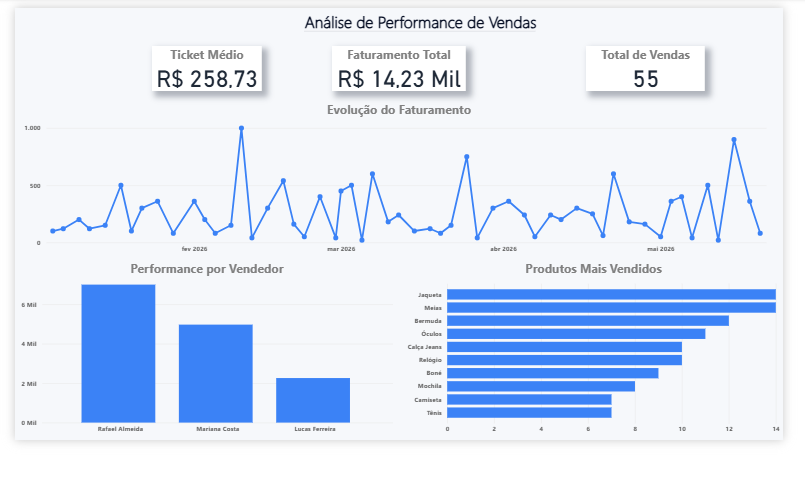

Layout of this report page (visuals, bound fields, positions):
{"tool":"powerbi","page":{"name":"Página 1","canvas":[1280,720],"ordinal":0},"visuals":[{"type":"card","title":"Faturamento Total","fields":{"Values":["Vendas.Faturamento Total"]},"box":[564.3,64.3,224.3,75.7],"z":0},{"type":"columnChart","title":"Performance por Vendedor","fields":{"Category":["Vendedores.nome_vendedor"],"Y":["Vendas.Faturamento Total"]},"box":[124.4,420,510.7,289.8],"z":1000},{"type":"barChart","title":"Produtos Mais Vendidos","fields":{"Y":["Sum(Vendas.quantidade)"],"Category":["Produtos.nome_produto"]},"box":[639.5,420,531.2,300],"z":2000},{"type":"lineChart","title":"Evolução do Faturamento","fields":{"Y":["Vendas.Faturamento Total"],"Category":["Datas.Date"]},"box":[4.3,154.3,1261.4,265.7],"z":3000},{"type":"card","title":"Ticket Médio","fields":{"Values":["Vendas.Ticket Medio"]},"box":[288.6,64.3,182.9,75.7],"z":4000},{"type":"card","title":"Total de Vendas","fields":{"Values":["Vendas.Total de Vendas"]},"box":[867.1,65.7,197.1,74.3],"z":5000},{"type":"textbox","box":[387.1,0,578.6,64.3],"z":7000},{"type":"shape","box":[481.4,11.4,385.7,54.3],"z":7001}]}

Visuals, with their boxes on the page's 1280x720 design canvas (x1, y1, x2, y2). These are canvas units, not pixel positions in the 805x480 screenshot, which may show the page scaled, cropped or inside an application window:
"Faturamento Total" card: 564,64,789,140
"Performance por Vendedor" columnChart: 124,420,635,710
"Produtos Mais Vendidos" barChart: 640,420,1171,720
"Evolução do Faturamento" lineChart: 4,154,1266,420
"Ticket Médio" card: 289,64,472,140
"Total de Vendas" card: 867,66,1064,140
textbox: 387,0,966,64
shape: 481,11,867,66
